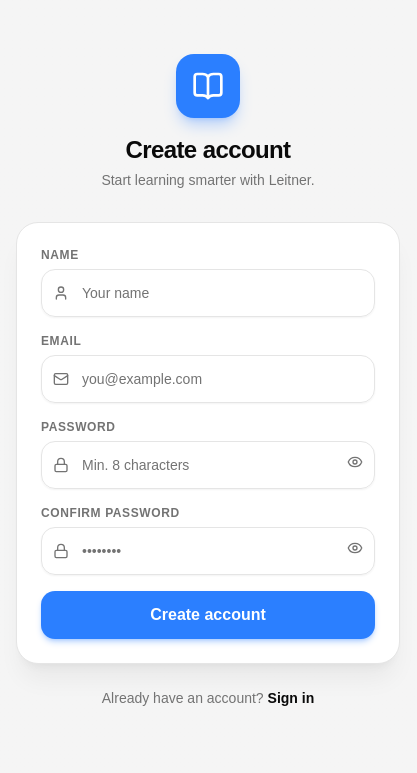
SignUpPage › name validation › shows error when name is only 1 character
The width and height of the screenshot is (417, 773).
Type "A" into the field with placeholder "Your name" at coordinates (208, 293), box [41,269,375,317]
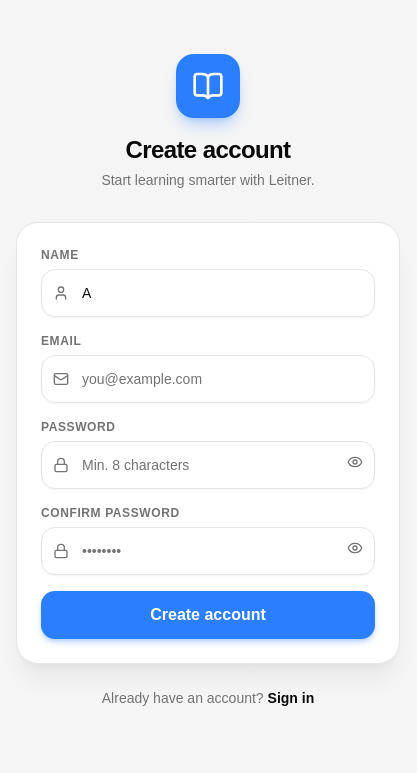
Click the button "Create account" at coordinates (208, 615), box [41,591,375,639]
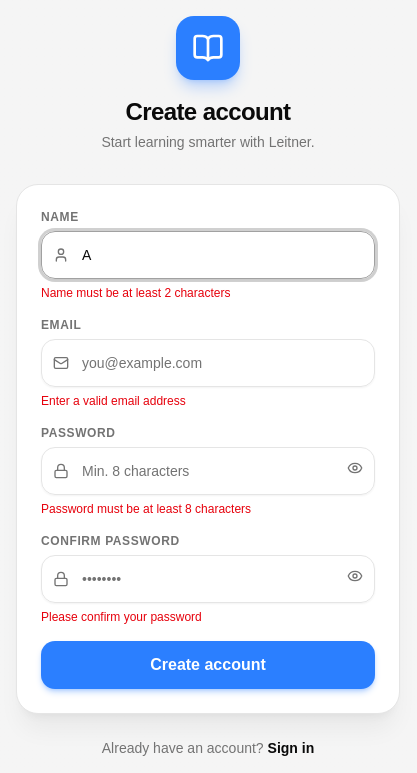
Result: the text "Name must be at least 2 characters" is shown at [41,286,230,300]
